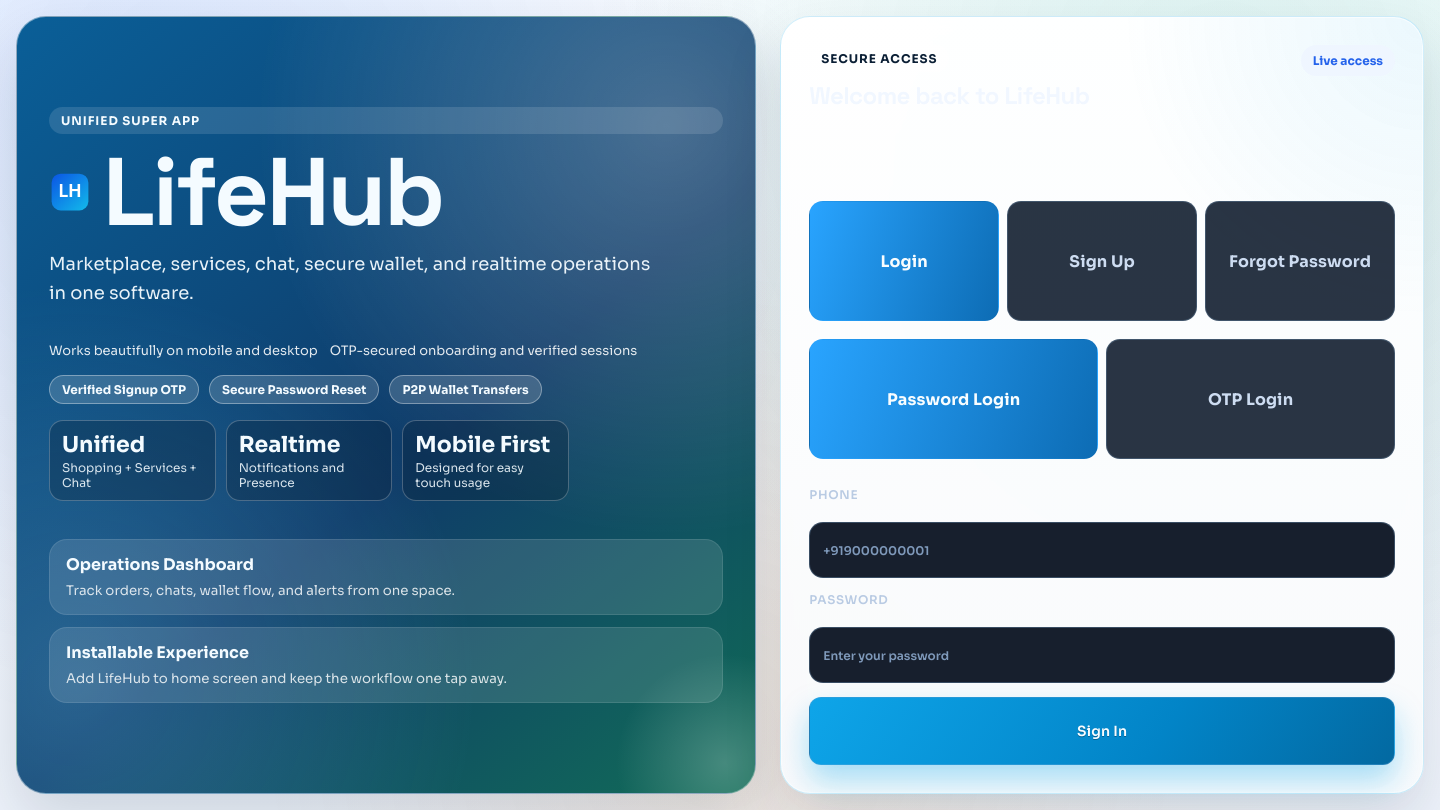
Test: AuthPage UI Functional Tests › should switch to OTP login mode and show Send OTP button
The width and height of the screenshot is (1440, 810).
Click the button "OTP Login" at (1251, 399), box [1106, 339, 1395, 459]
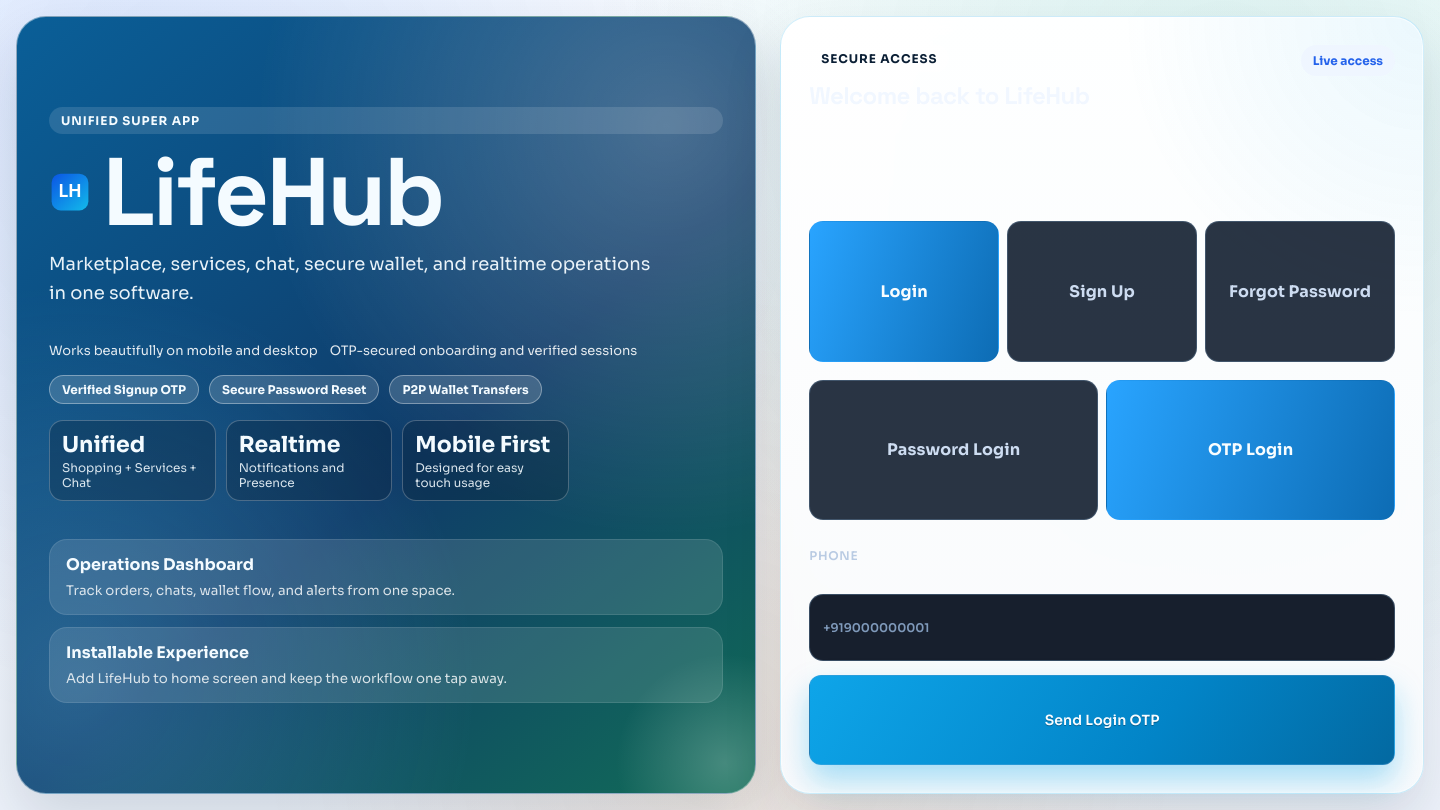
Now the button "Send Login OTP" is shown, box [809, 675, 1395, 765]
